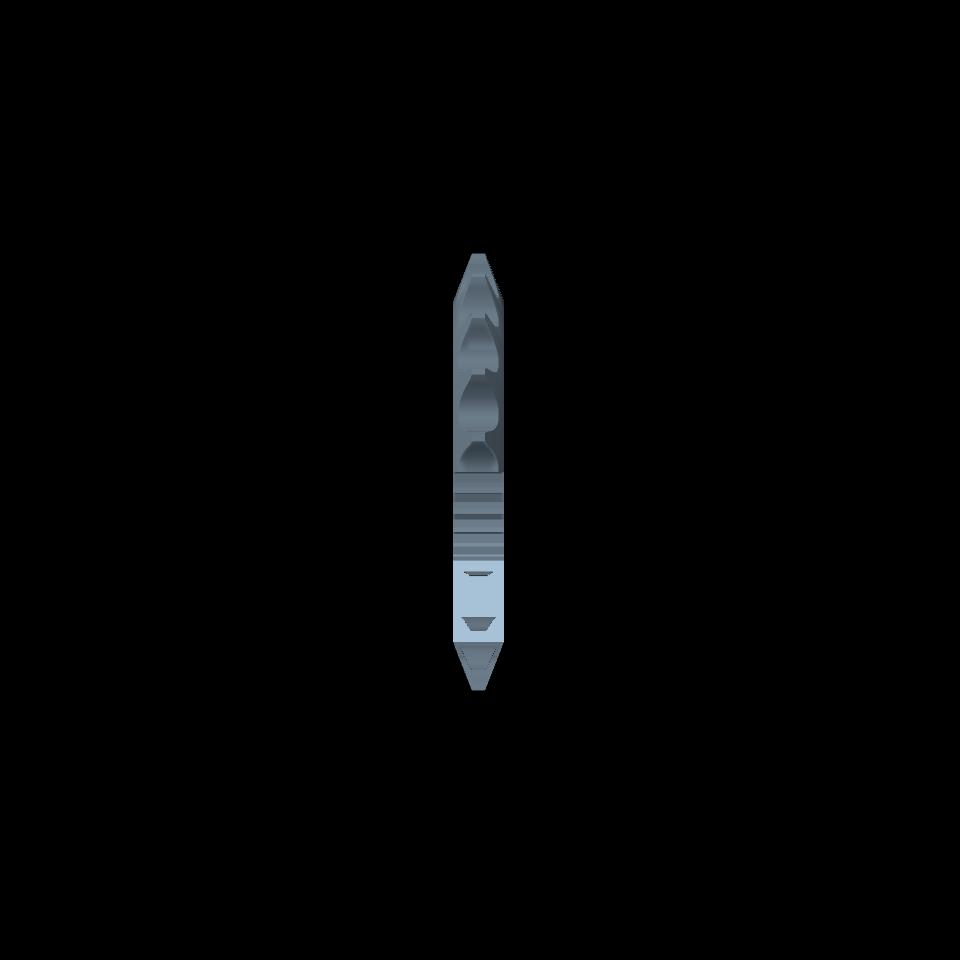Straight: (470, 253, 486, 689)
